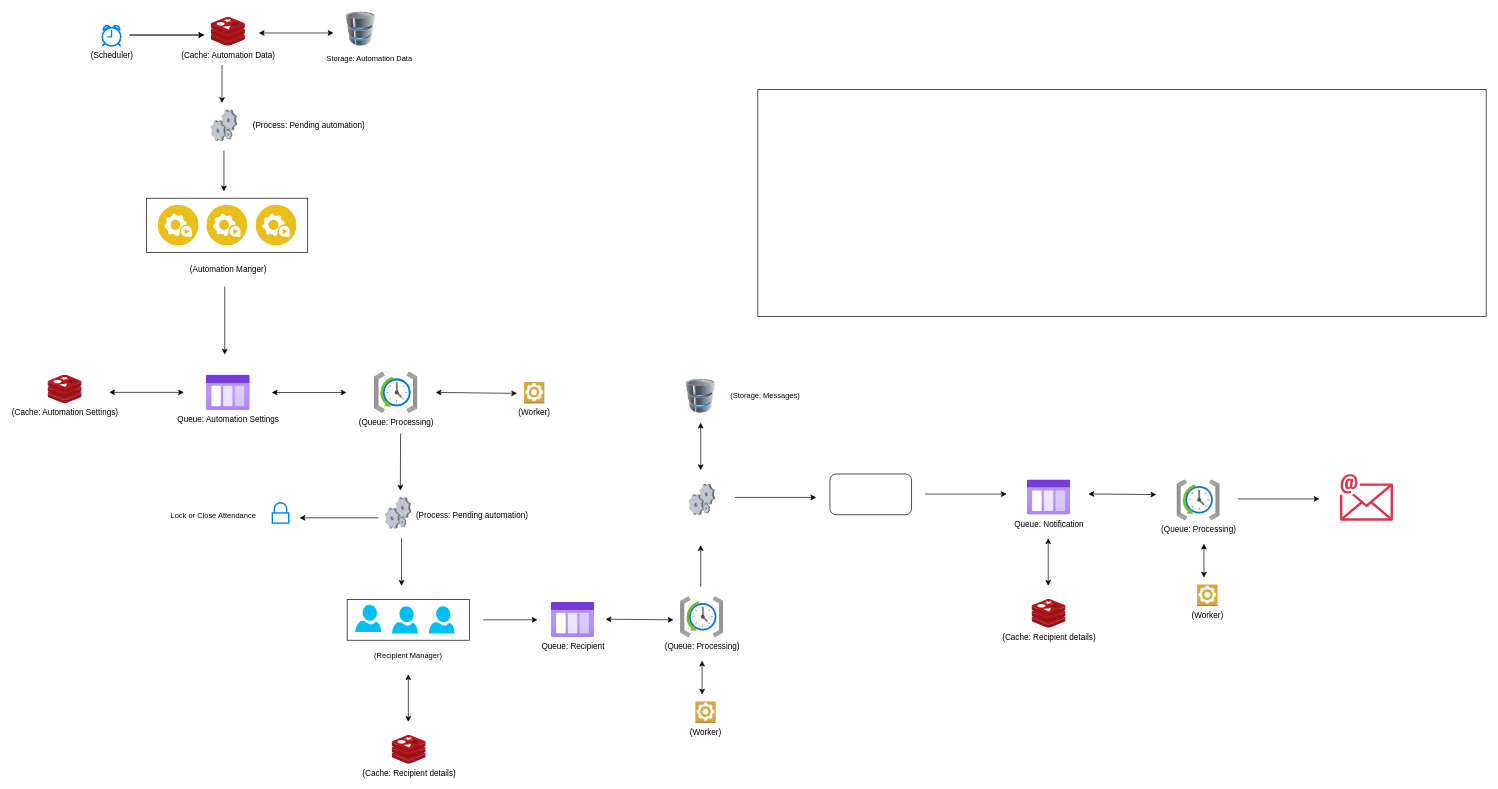
The diagram is 1498 pixels wide and 789 high, and some of its shapes have lost their labels. Each missing label, with the box of its shape:
(Process: Notification Details): (689, 483, 715, 514)
(Send notification): (1340, 474, 1393, 521)
Cut-off Automation: Salary & Payroll Details Reminder: (757, 89, 1486, 317)
Data processing: (829, 473, 912, 515)
